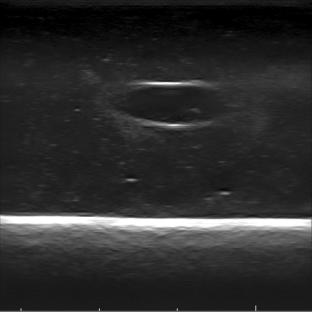vessel: (125, 81, 223, 131)
